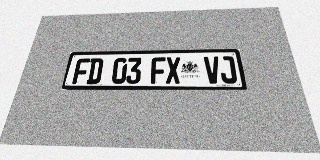0: (111, 58, 128, 84)
3: (126, 58, 142, 84)
D: (86, 58, 104, 84)
F: (72, 58, 90, 84), (151, 57, 165, 84)
J: (219, 56, 238, 84)
V: (204, 56, 221, 84)
X: (166, 57, 181, 84)
